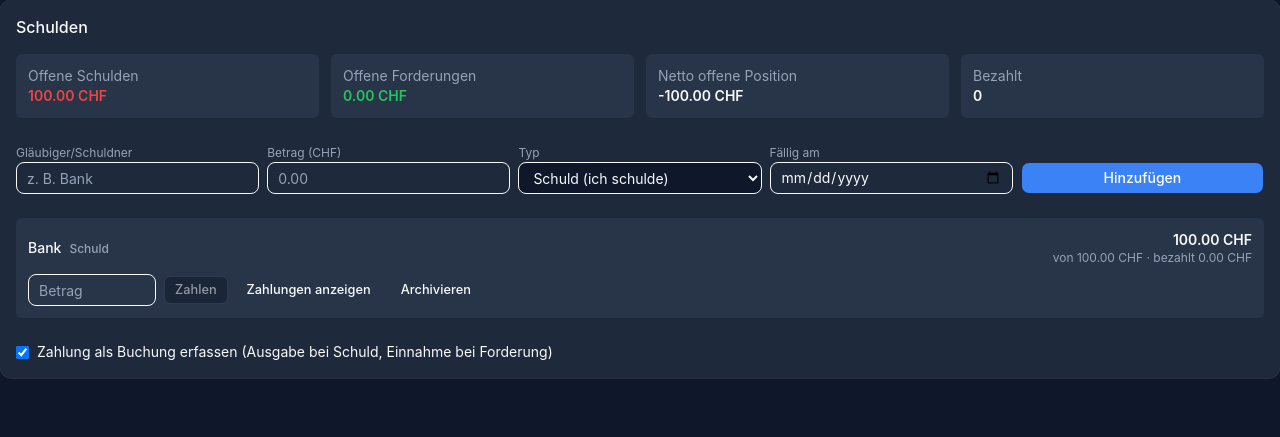
Test: DebtManager › shows the payments of a debt including cancelled ones
expect the text "Bank" is shown: met, box [28, 239, 61, 256]
Click the button "Zahlungen anzeigen". click: [309, 290]
box: [236, 276, 382, 304]
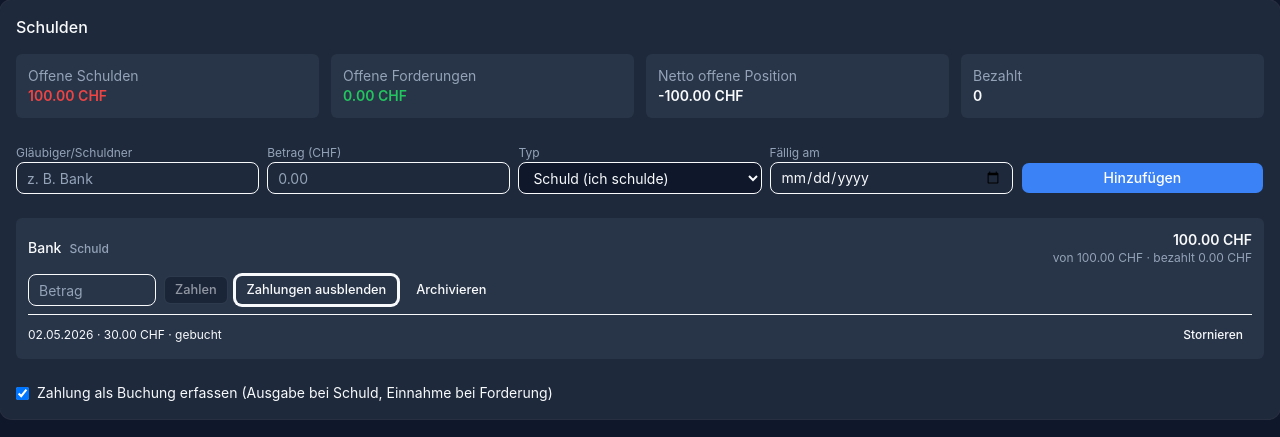
expect the text "02.05.2026 · 30.00 CHF · gebucht" is shown: met, box [28, 327, 222, 343]
